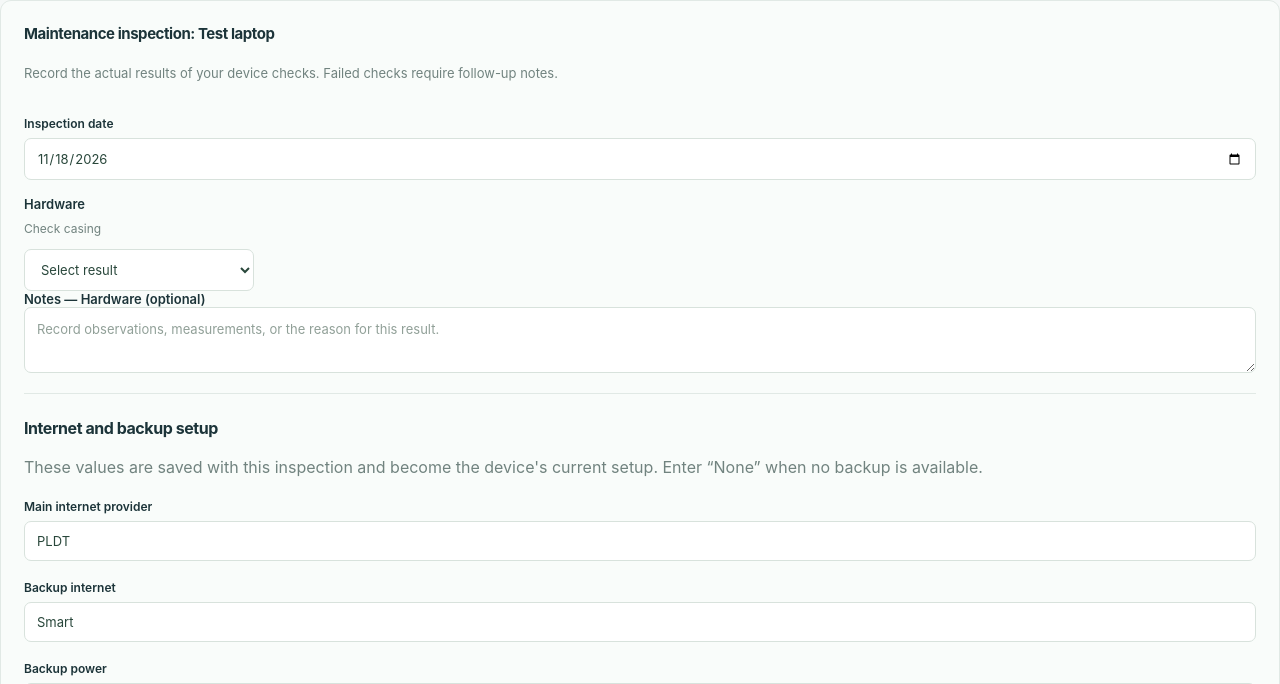
Test: inspection notes and screenshots › blocks failed checks without a specific note
Select "Fail" in the dropdown labelled "Hardware" at (139, 270), box [24,249,254,291]
(page scrolled)
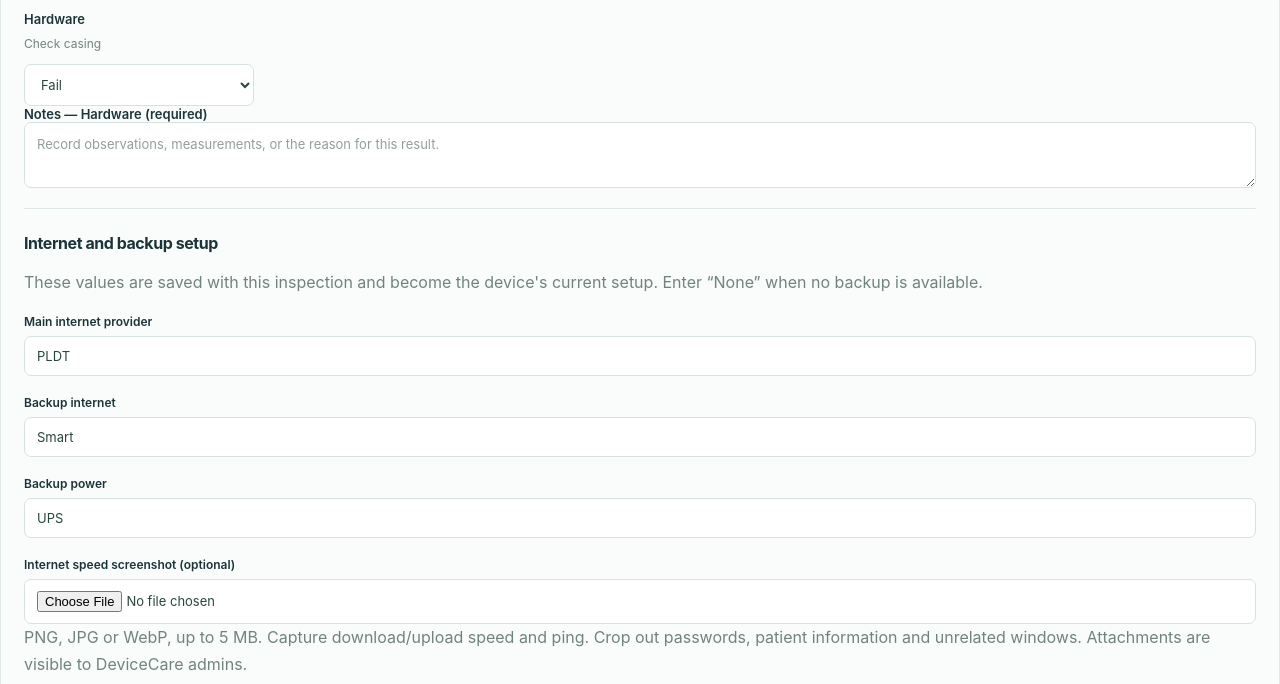
Submit the form named "Complete inspection"
(page scrolled)
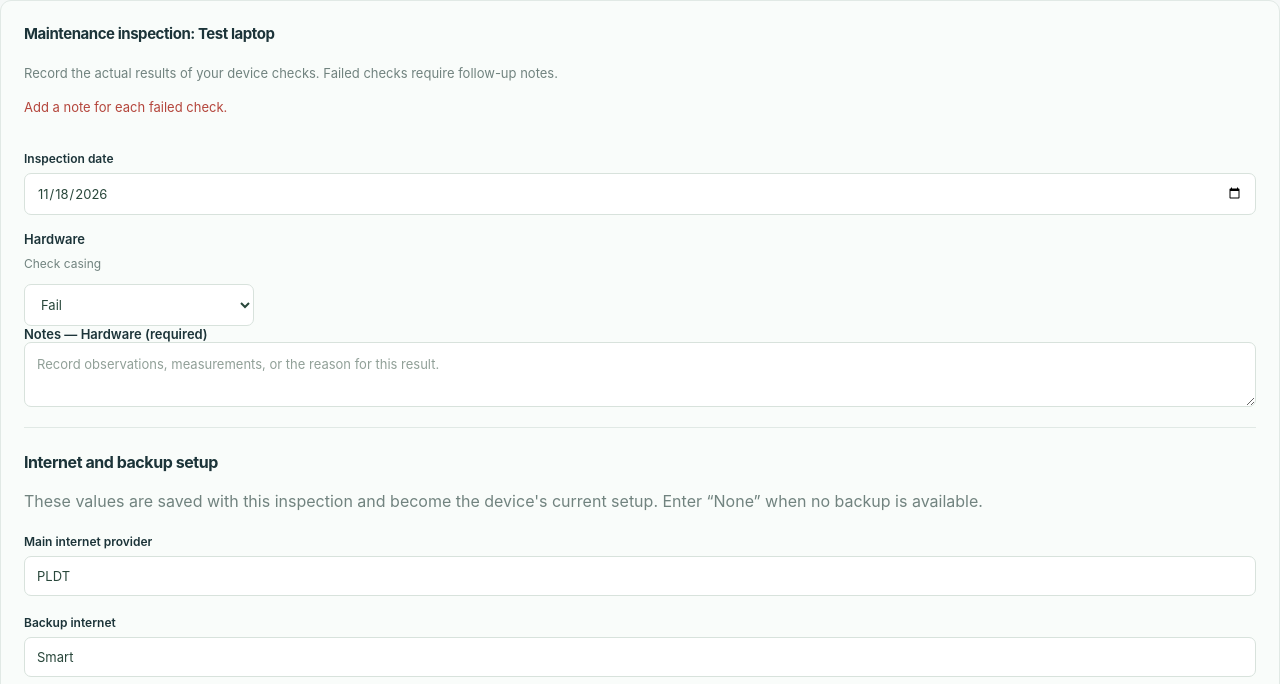
Expected: the text "Add a note for each failed check." is shown, [24,99,227,115]
